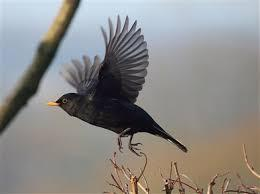drone_other: (46, 13, 189, 154)
